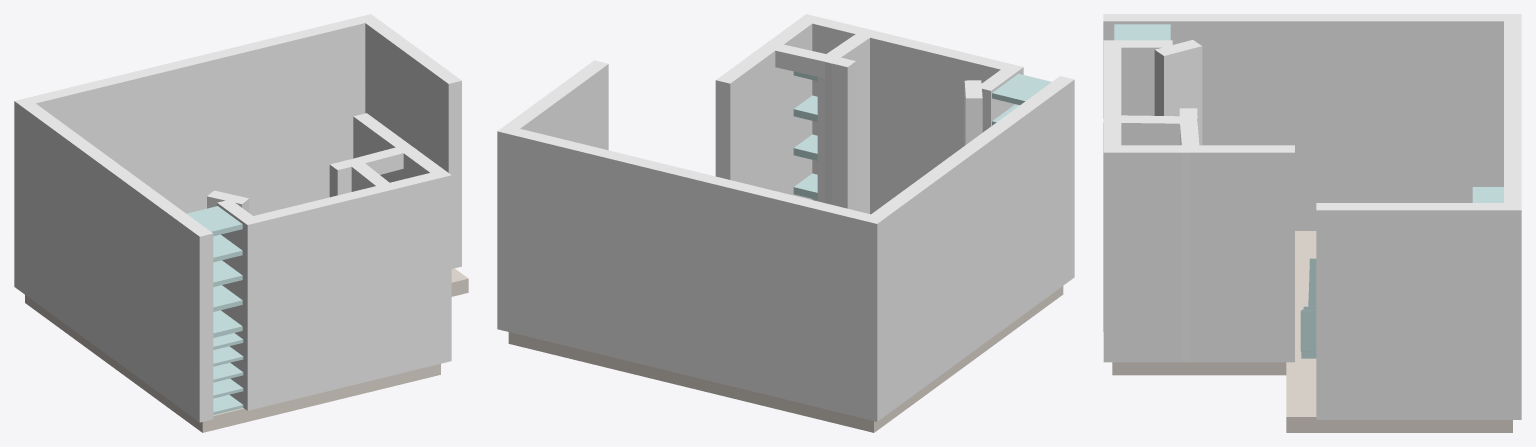
The picture shows the model from 3 angles, left to right: view 1: azimuth 30°, elevation 25°; view 2: azimuth 150°, elevation 25°; view 3: azimuth 270°, elevation 25°; orthographic projection. The views are drawn at different scales.
Visible parts, largest first — view 1: wall_C9F477E4_FB1C_4B08_B0E7_A6205A74D3C3, wall_37EF0CDF_AA05_4FA7_AB8F_E44F57CEAC8F, wall_B9067CE3_608C_482B_87F1_8B87D897B88C, window_C99C84F3_49B1_4B16_8713_B773B1DC60C7, window_65D752E8_3510_4867_A095_CFD646ECF32A, wall_5DD89ABF_3E8F_48DB_B0D6_CB6582A30BD3, wall_9B3638B3_0664_490A_8913_F83DF1E9444F, door_isOpen__false__FD3326DC_2648_4923_8E88_EABC6CE242EA, wall_8FF1B3DD_ACB2_4F3C_8B47_BE19376EFFA9, floor_EA39D220_EDB6_4EA6_AD79_22FE970A6262, wall_0FAAA372_EF6B_4ADF_B4A3_60B9A742A38E, Interiors.006 (+7 smaller); view 2: wall_C9F477E4_FB1C_4B08_B0E7_A6205A74D3C3, wall_37EF0CDF_AA05_4FA7_AB8F_E44F57CEAC8F, window_C99C84F3_49B1_4B16_8713_B773B1DC60C7, door_isOpen__false__FD3326DC_2648_4923_8E88_EABC6CE242EA, window_65D752E8_3510_4867_A095_CFD646ECF32A, wall_B9067CE3_608C_482B_87F1_8B87D897B88C, floor_EA39D220_EDB6_4EA6_AD79_22FE970A6262, wall_5DD89ABF_3E8F_48DB_B0D6_CB6582A30BD3, wall_7D0F23FE_44D5_4A9C_9737_58078F375591, wall_0FAAA372_EF6B_4ADF_B4A3_60B9A742A38E, wall_B56B7990_15D1_4ABC_9E7E_D58E8EB35536, wall_55DF55A9_2B3B_4594_BD4B_11A8711EF2AE (+7 smaller); view 3: wall_5DD89ABF_3E8F_48DB_B0D6_CB6582A30BD3, wall_37EF0CDF_AA05_4FA7_AB8F_E44F57CEAC8F, window_C99C84F3_49B1_4B16_8713_B773B1DC60C7, wall_0FAAA372_EF6B_4ADF_B4A3_60B9A742A38E, door_isOpen__false__9A5633DF_3EA6_4813_8BA5_F2B3BD6FFDCA, door_isOpen__false__A874015A_8D2E_4629_BD2C_6104747F8790, wall_7D0F23FE_44D5_4A9C_9737_58078F375591, floor_EA39D220_EDB6_4EA6_AD79_22FE970A6262, wall_7599C05B_D780_403C_9B54_C54170DE9579, wall_C9F477E4_FB1C_4B08_B0E7_A6205A74D3C3, wall_9B3638B3_0664_490A_8913_F83DF1E9444F, wall_8FF1B3DD_ACB2_4F3C_8B47_BE19376EFFA9 (+6 smaller).
Boxes of the visible parts, box(x1,y1,x2,y2) form: wall_C9F477E4_FB1C_4B08_B0E7_A6205A74D3C3: box(15, 14, 376, 215); wall_37EF0CDF_AA05_4FA7_AB8F_E44F57CEAC8F: box(14, 101, 213, 422); wall_B9067CE3_608C_482B_87F1_8B87D897B88C: box(239, 185, 396, 410); window_C99C84F3_49B1_4B16_8713_B773B1DC60C7: box(50, 158, 154, 328); window_65D752E8_3510_4867_A095_CFD646ECF32A: box(279, 226, 369, 352); wall_5DD89ABF_3E8F_48DB_B0D6_CB6582A30BD3: box(358, 14, 461, 268); wall_9B3638B3_0664_490A_8913_F83DF1E9444F: box(383, 173, 441, 374); door_isOpen__false__FD3326DC_2648_4923_8E88_EABC6CE242EA: box(301, 59, 358, 203); wall_8FF1B3DD_ACB2_4F3C_8B47_BE19376EFFA9: box(217, 199, 260, 410); floor_EA39D220_EDB6_4EA6_AD79_22FE970A6262: box(25, 268, 468, 432); wall_0FAAA372_EF6B_4ADF_B4A3_60B9A742A38E: box(395, 144, 451, 364); Interiors.006: box(187, 206, 242, 337); wall_C9F477E4_FB1C_4B08_B0E7_A6205A74D3C3: box(497, 125, 885, 421); wall_37EF0CDF_AA05_4FA7_AB8F_E44F57CEAC8F: box(862, 76, 1074, 420); window_C99C84F3_49B1_4B16_8713_B773B1DC60C7: box(915, 147, 1026, 329); door_isOpen__false__FD3326DC_2648_4923_8E88_EABC6CE242EA: box(518, 173, 579, 349); window_65D752E8_3510_4867_A095_CFD646ECF32A: box(885, 74, 964, 189); wall_B9067CE3_608C_482B_87F1_8B87D897B88C: box(860, 28, 1023, 214); floor_EA39D220_EDB6_4EA6_AD79_22FE970A6262: box(508, 286, 1063, 432); wall_5DD89ABF_3E8F_48DB_B0D6_CB6582A30BD3: box(497, 60, 608, 262); wall_7D0F23FE_44D5_4A9C_9737_58078F375591: box(715, 42, 783, 192); wall_0FAAA372_EF6B_4ADF_B4A3_60B9A742A38E: box(761, 14, 819, 199); wall_B56B7990_15D1_4ABC_9E7E_D58E8EB35536: box(818, 57, 855, 210); wall_55DF55A9_2B3B_4594_BD4B_11A8711EF2AE: box(817, 28, 878, 213); wall_5DD89ABF_3E8F_48DB_B0D6_CB6582A30BD3: box(1316, 203, 1521, 419); wall_37EF0CDF_AA05_4FA7_AB8F_E44F57CEAC8F: box(1103, 14, 1521, 230); window_C99C84F3_49B1_4B16_8713_B773B1DC60C7: box(1204, 56, 1441, 162); wall_0FAAA372_EF6B_4ADF_B4A3_60B9A742A38E: box(1103, 145, 1199, 362); door_isOpen__false__9A5633DF_3EA6_4813_8BA5_F2B3BD6FFDCA: box(1197, 194, 1268, 362); door_isOpen__false__A874015A_8D2E_4629_BD2C_6104747F8790: box(1368, 248, 1437, 419); wall_7D0F23FE_44D5_4A9C_9737_58078F375591: box(1182, 145, 1294, 362); floor_EA39D220_EDB6_4EA6_AD79_22FE970A6262: box(1112, 231, 1512, 432); wall_7599C05B_D780_403C_9B54_C54170DE9579: box(1154, 40, 1202, 145); wall_C9F477E4_FB1C_4B08_B0E7_A6205A74D3C3: box(1504, 14, 1521, 209); wall_9B3638B3_0664_490A_8913_F83DF1E9444F: box(1103, 115, 1121, 361); wall_8FF1B3DD_ACB2_4F3C_8B47_BE19376EFFA9: box(1103, 40, 1172, 115).
Size of the model in its own units: 526 by 283 by 474.
